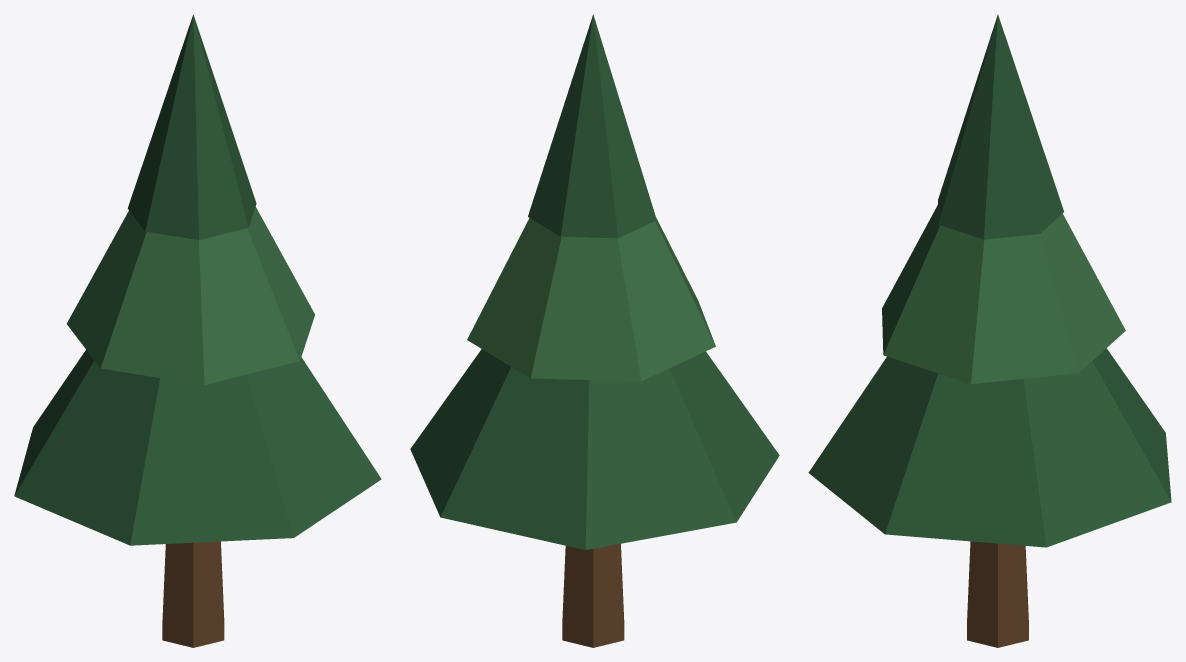
File: tree_pine_c.glb
The picture shows the model from 3 angles, left to right: view 1: azimuth 30°, elevation 25°; view 2: azimuth 150°, elevation 25°; view 3: azimuth 270°, elevation 25°; orthographic projection.
Visible parts, largest first — view 1: tree_pine_c; view 2: tree_pine_c; view 3: tree_pine_c.
Part boxes in pixels (x1,y1,x2,y2): tree_pine_c: [14, 14, 381, 647]; tree_pine_c: [410, 14, 779, 647]; tree_pine_c: [808, 14, 1171, 647].
Bounding box in the file's own units: 3.29 × 6.08 × 3.24.
